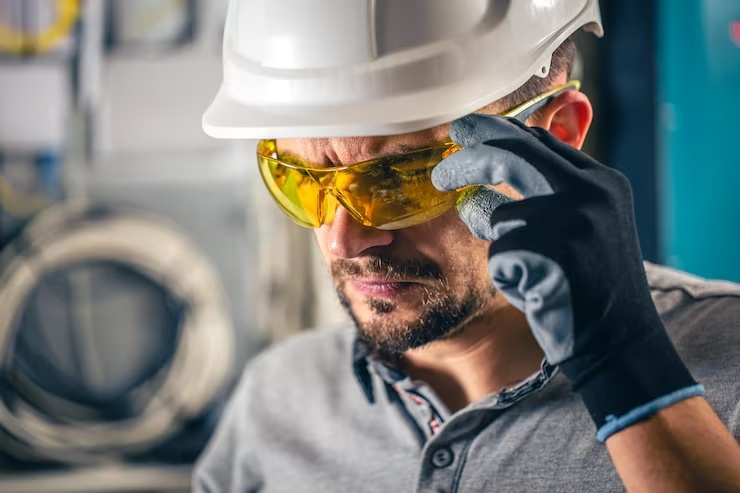safety_goggles: (192, 115, 592, 228)
